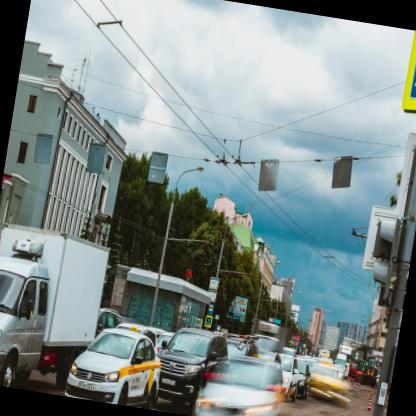car: (370, 115, 396, 148), (392, 113, 412, 143)
truck: (340, 84, 384, 143)
